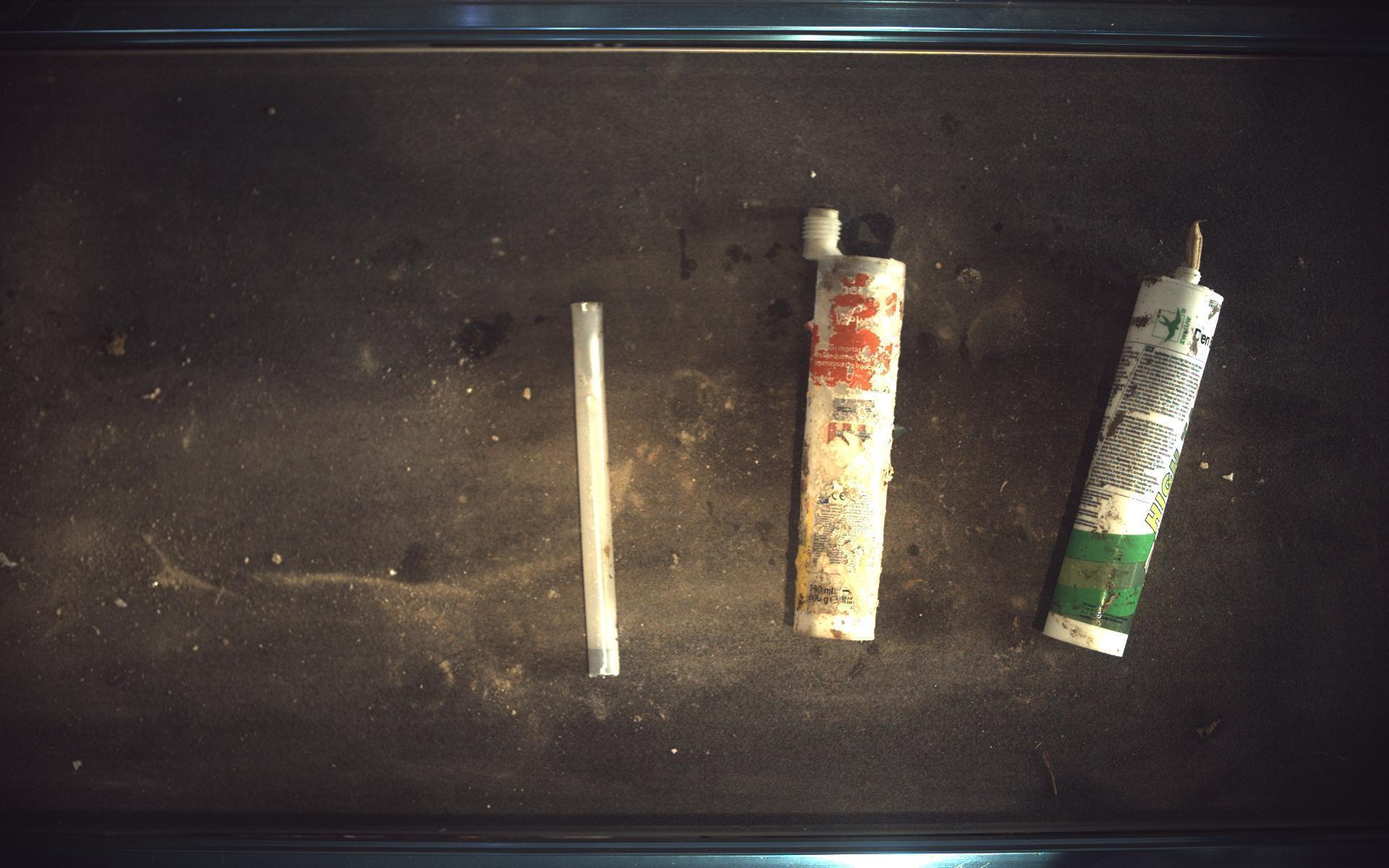plastic: (1045, 221, 1226, 658), (795, 208, 907, 642), (572, 301, 621, 678)
